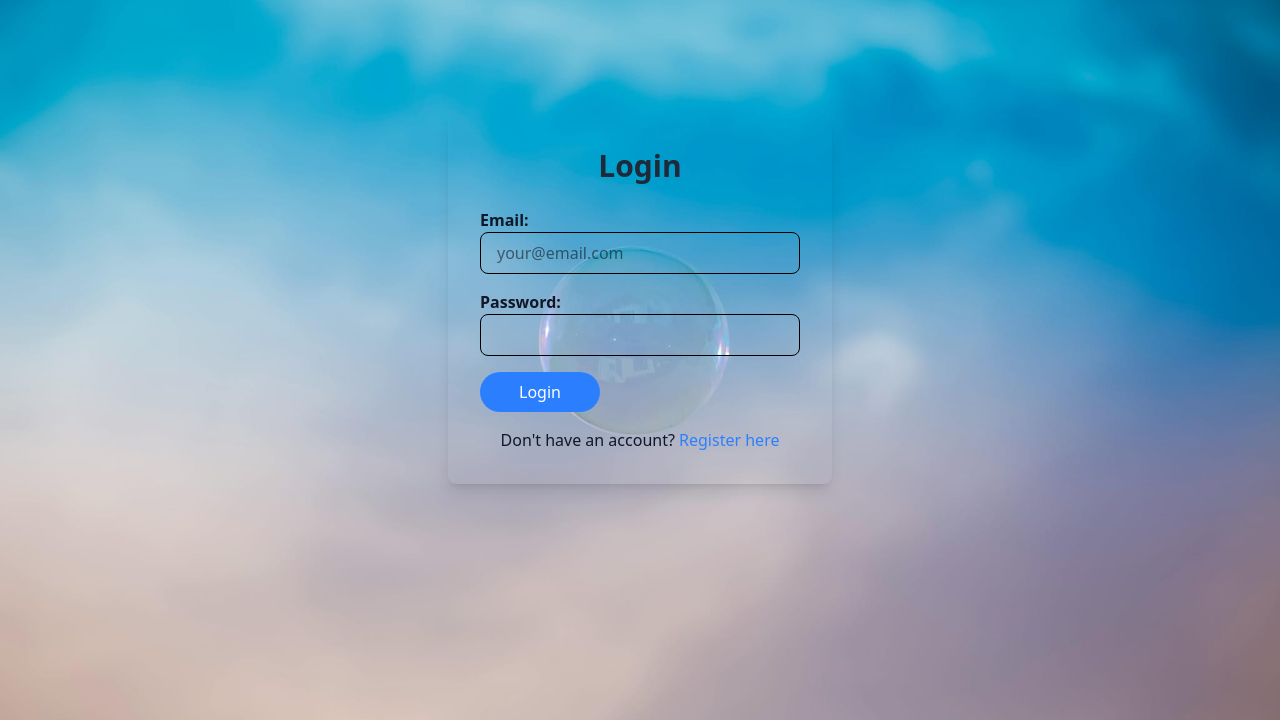
Scenario: Should show error message if wrong email is entered
The width and height of the screenshot is (1280, 720).
In the field labelled "Email:": coordinates (640, 253) left=480, top=232, right=800, bottom=274, type "invalid#email.com"
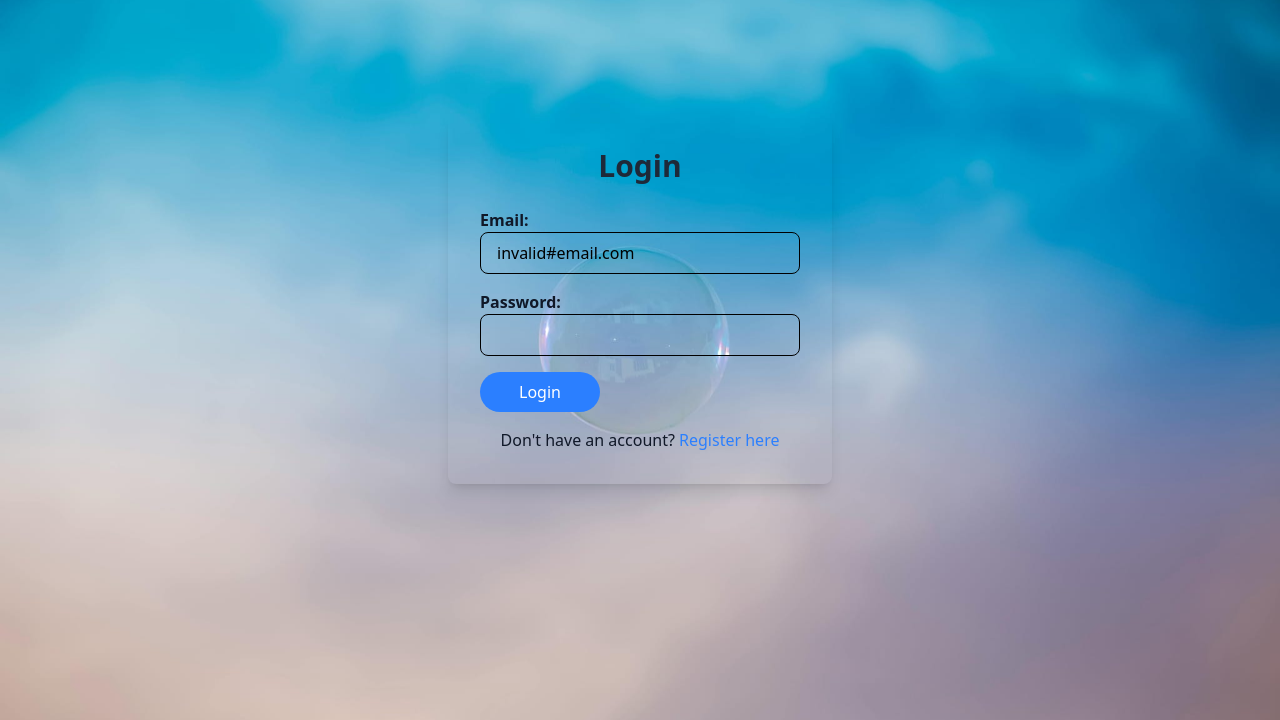
In the password field labelled "Password:": coordinates (640, 335) left=480, top=314, right=800, bottom=356, type "123456"
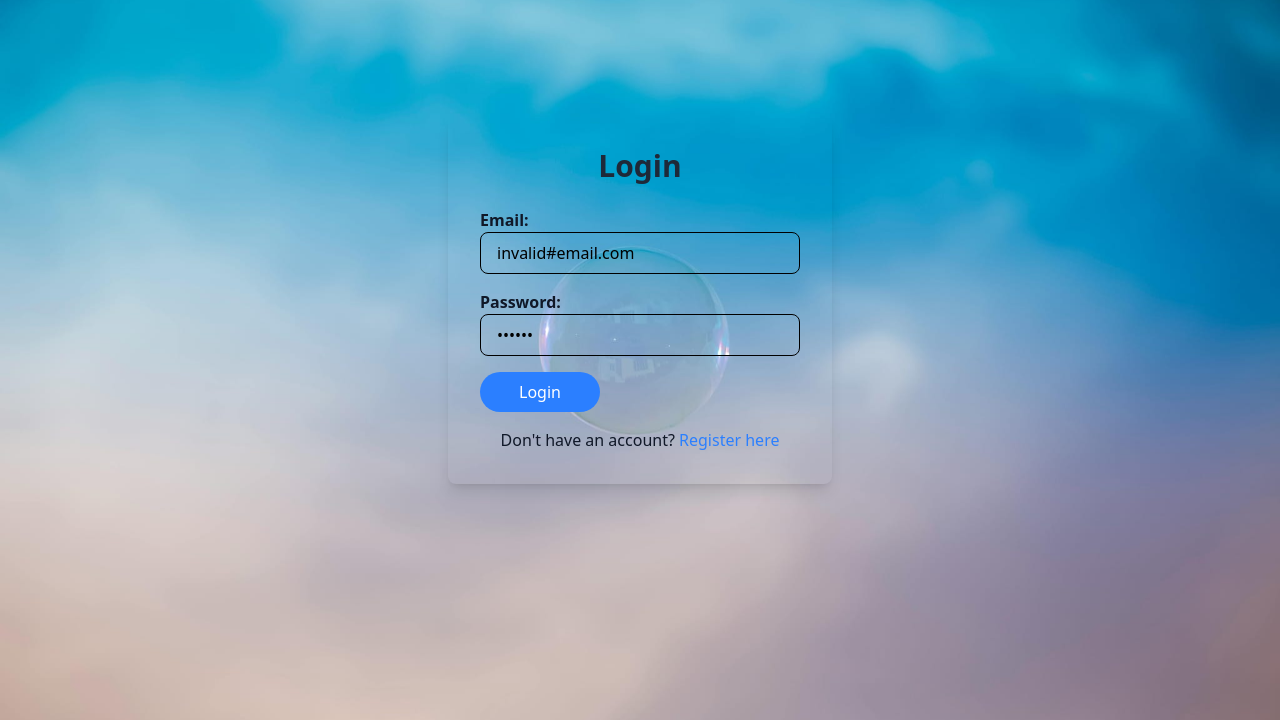
Submit the form with test id "login-form", box left=480, top=208, right=800, bottom=412
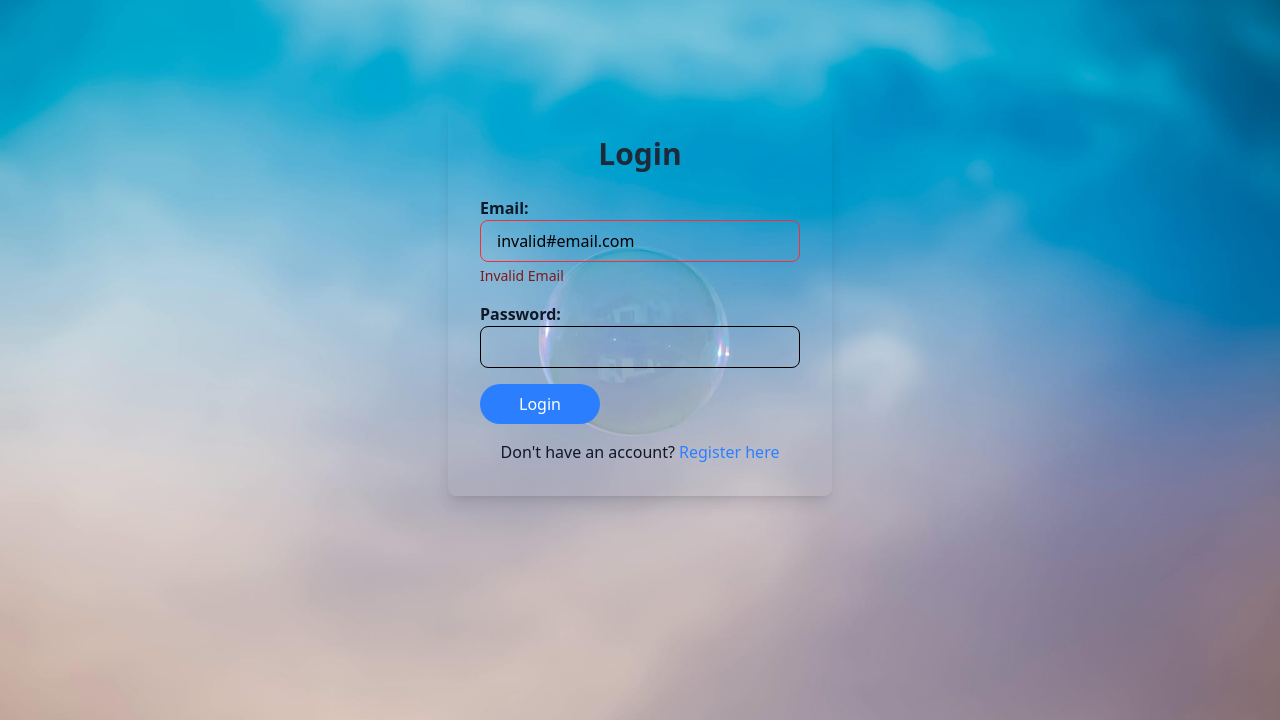
Result: the text "Invalid Email" is shown at left=480, top=266, right=564, bottom=285
